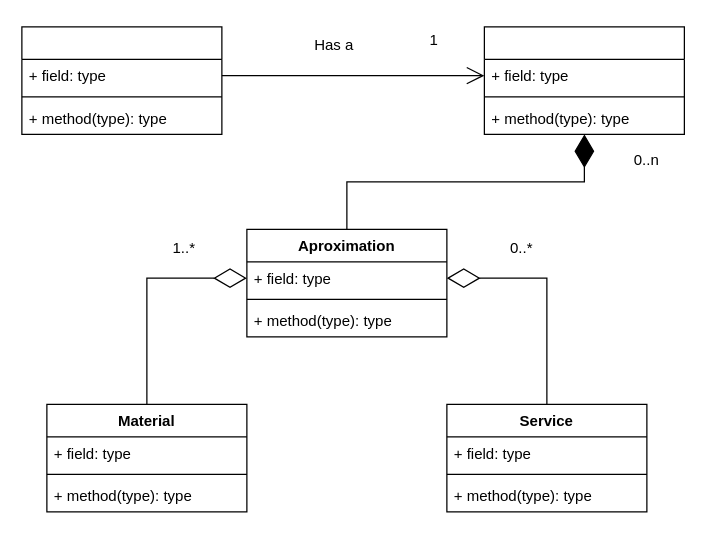
The diagram is 706 pixels wide and 536 high, and some of its shapes have lost their labels. The box of each missing label's shape, as (x1, y1, x2, y2) in pixels:
History: (483, 26, 684, 134)
User: (21, 26, 222, 134)
